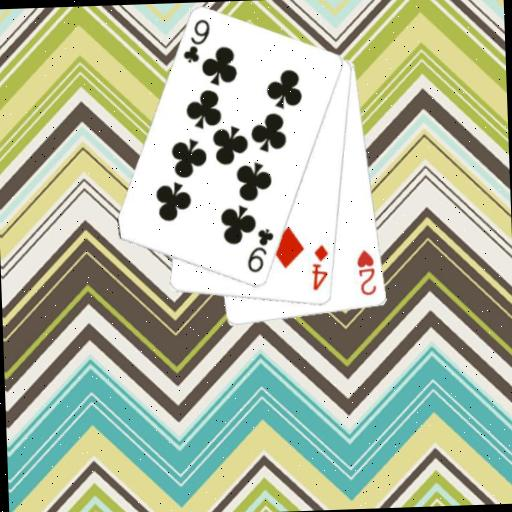2H: (353, 246, 378, 297)
4D: (308, 242, 332, 293)
9C: (243, 225, 277, 275), (178, 16, 212, 66)
